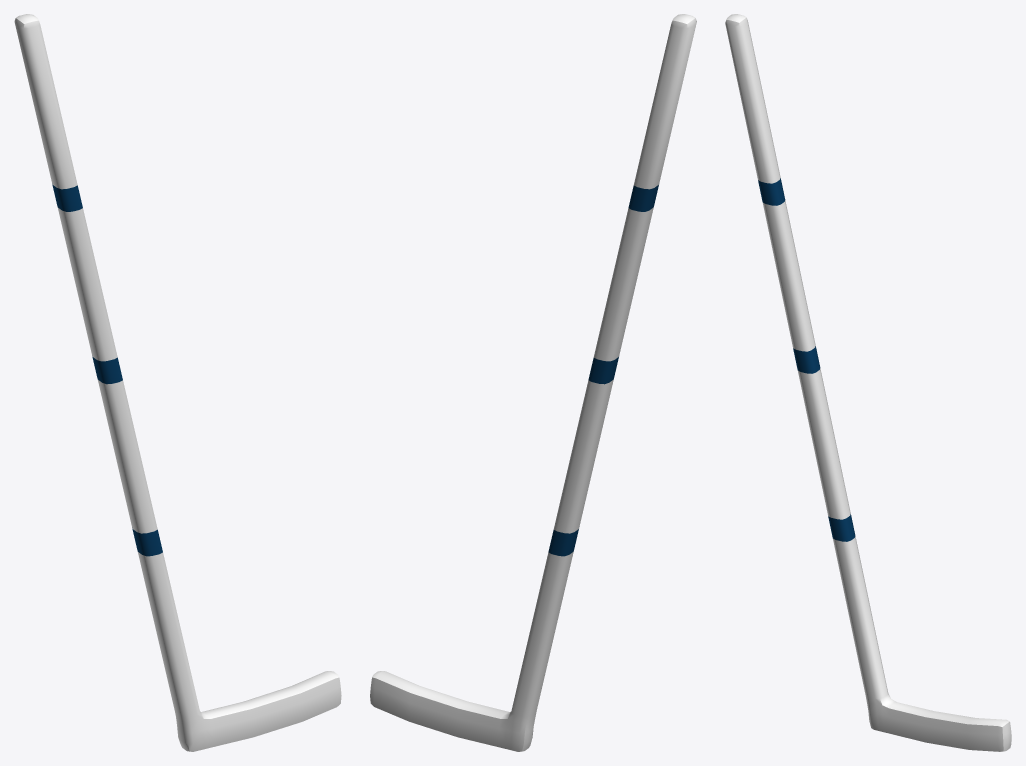
The model's file is Ice Hokey Stick_2.fbx.
3 views of the same model, side by side, from view 1: azimuth 30°, elevation 25°; view 2: azimuth 150°, elevation 25°; view 3: azimuth 330°, elevation 25° (orthographic). The views are drawn at different scales.
Visible parts, largest first — view 1: Ice Hokey Stick_2; view 2: Ice Hokey Stick_2; view 3: Ice Hokey Stick_2.
Part boxes in pixels (x1,y1,x2,y2): Ice Hokey Stick_2: (14,14,341,751); Ice Hokey Stick_2: (370,14,696,751); Ice Hokey Stick_2: (725,14,1011,751).
Bounding box in the file's own units: 0.3105 × 0.7133 × 0.0196.
